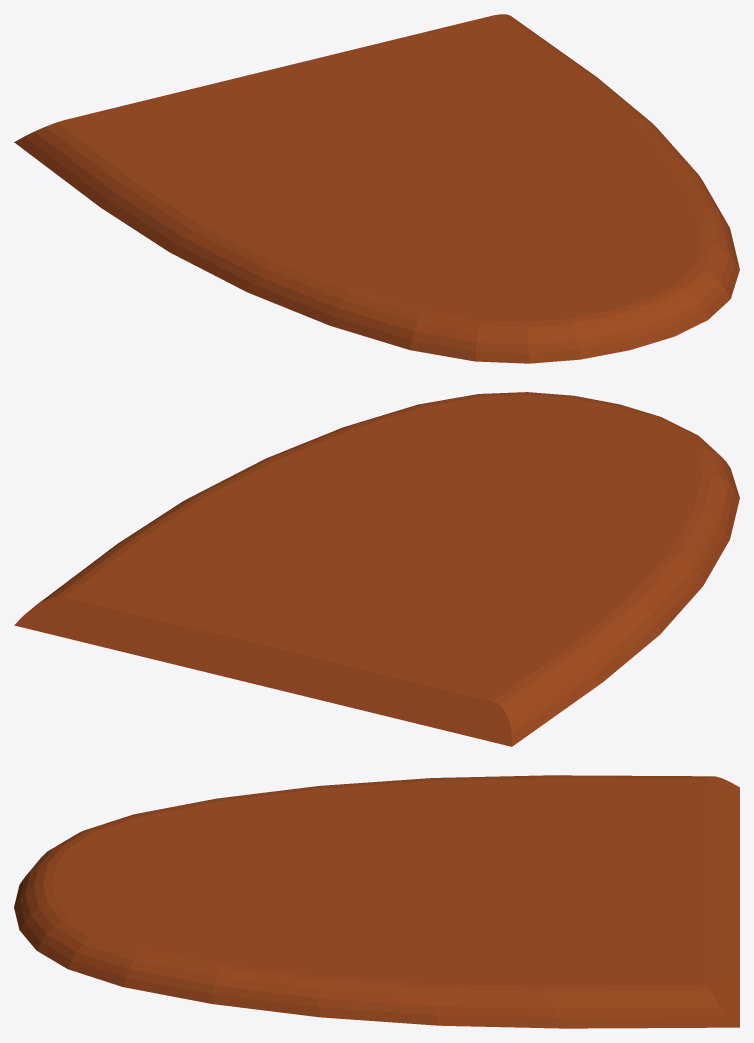
File: toiletLitt3.fbx
3 renders of one model, top to bottom at view 1: azimuth 30°, elevation 25°; view 2: azimuth 150°, elevation 25°; view 3: azimuth 270°, elevation 25°, orthographic.
Parts seen in each view (by area): view 1: toiletseatBottom.001; view 2: toiletseatBottom.001; view 3: toiletseatBottom.001.
Part boxes in pixels (bbox=[...]): toiletseatBottom.001: bbox=[14, 14, 739, 363]; toiletseatBottom.001: bbox=[14, 392, 739, 746]; toiletseatBottom.001: bbox=[14, 775, 739, 1028].
Bounding box in the file's own units: 244 × 11.81 × 310.
